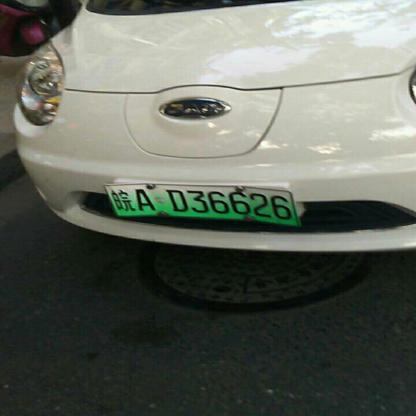lp: (105, 186, 299, 226)
